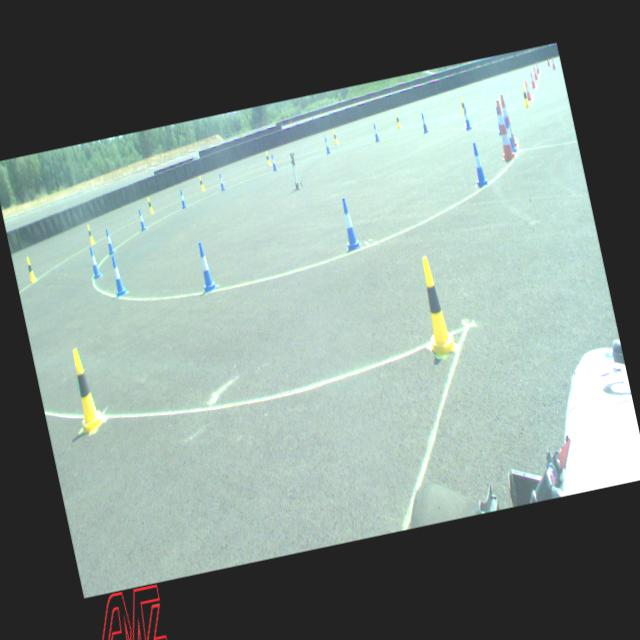blue_cone: (336, 196, 362, 251), (193, 240, 218, 293), (468, 142, 488, 186), (108, 254, 127, 296), (504, 116, 516, 152), (88, 246, 101, 278), (104, 228, 115, 254), (493, 106, 503, 134), (461, 106, 472, 130), (136, 208, 146, 230), (419, 112, 428, 132), (178, 188, 187, 208), (372, 124, 379, 142), (218, 172, 225, 190), (324, 137, 331, 154), (270, 154, 276, 171)
large_orange_cone: (491, 100, 515, 160), (498, 93, 517, 148)
orange_cone: (524, 80, 532, 100), (528, 72, 536, 88), (532, 66, 538, 80), (550, 57, 555, 69), (534, 62, 539, 74)
yellow_cone: (411, 254, 458, 357), (61, 344, 108, 436), (24, 256, 36, 282), (520, 85, 530, 107), (86, 223, 95, 244), (146, 196, 154, 214), (394, 111, 402, 128), (459, 96, 465, 115), (198, 175, 205, 190), (264, 150, 270, 166), (332, 129, 338, 144)
